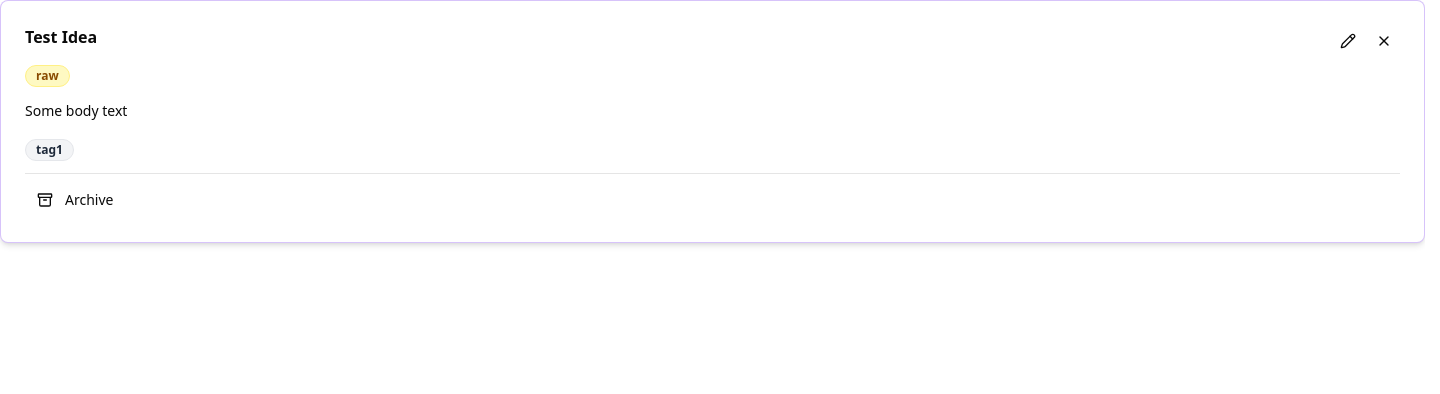
Test: IdeaCard › Save behavior (active) › Cmd+Enter saves pending changes and exits edit mode
Click the button named "Edit idea" at (1348, 41), box 1332,25 -> 1364,57
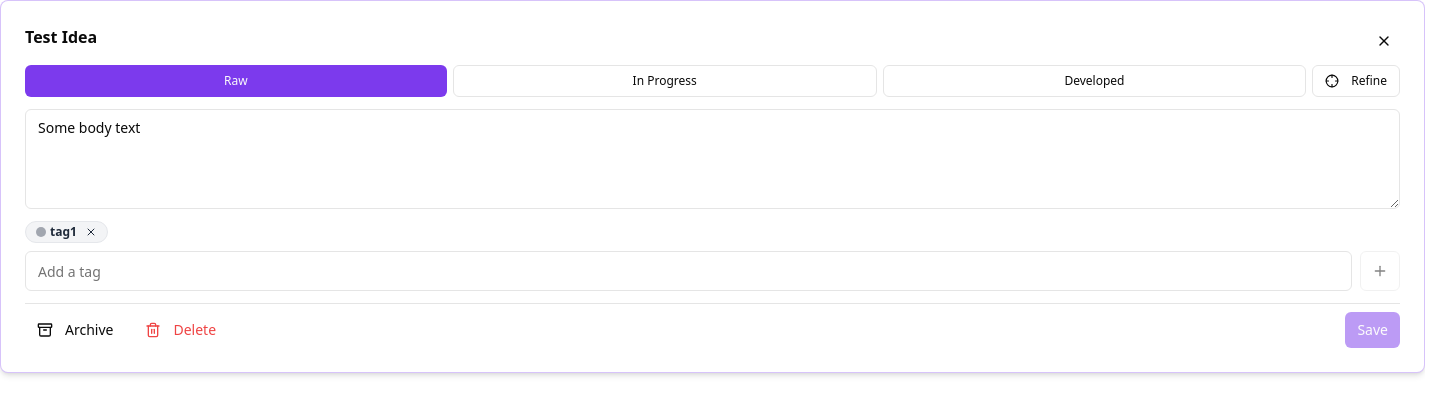
Replace the text in the text box named "Idea body" with "cmd-enter save" at (712, 159), box 25,109 -> 1400,209
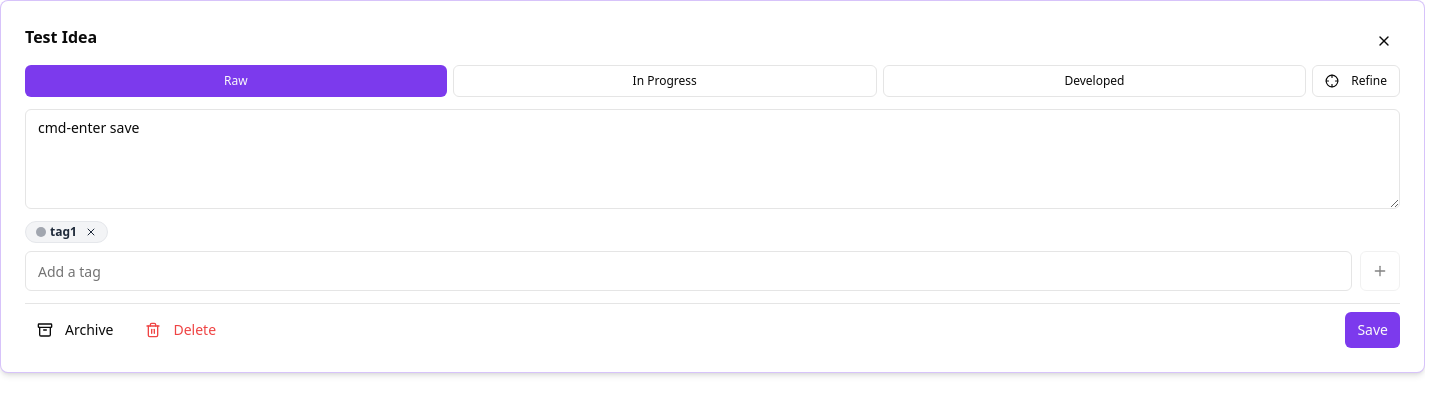
Press Enter
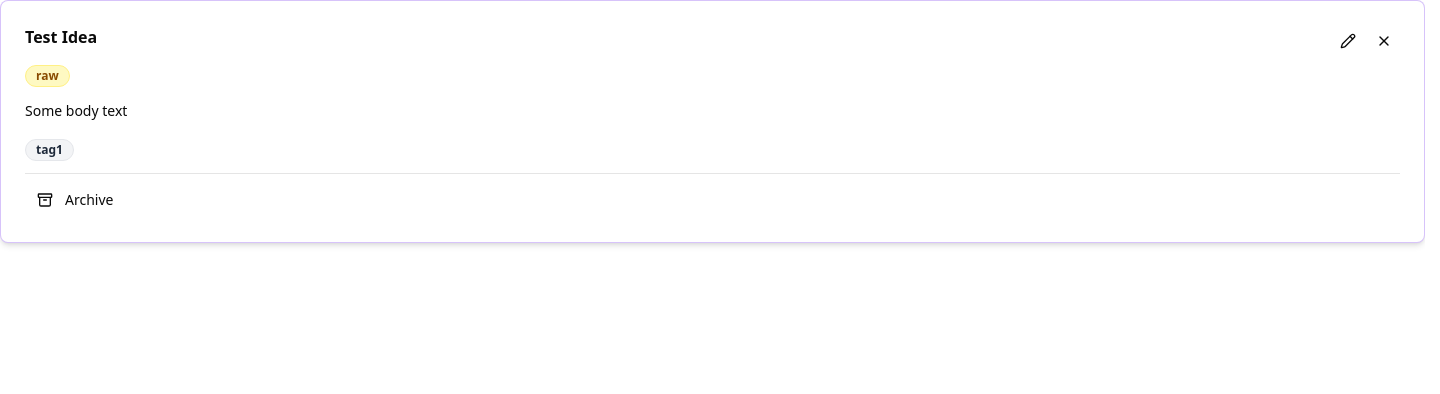
Expected: the button named "Edit idea" is shown, 1332,25 -> 1364,57
